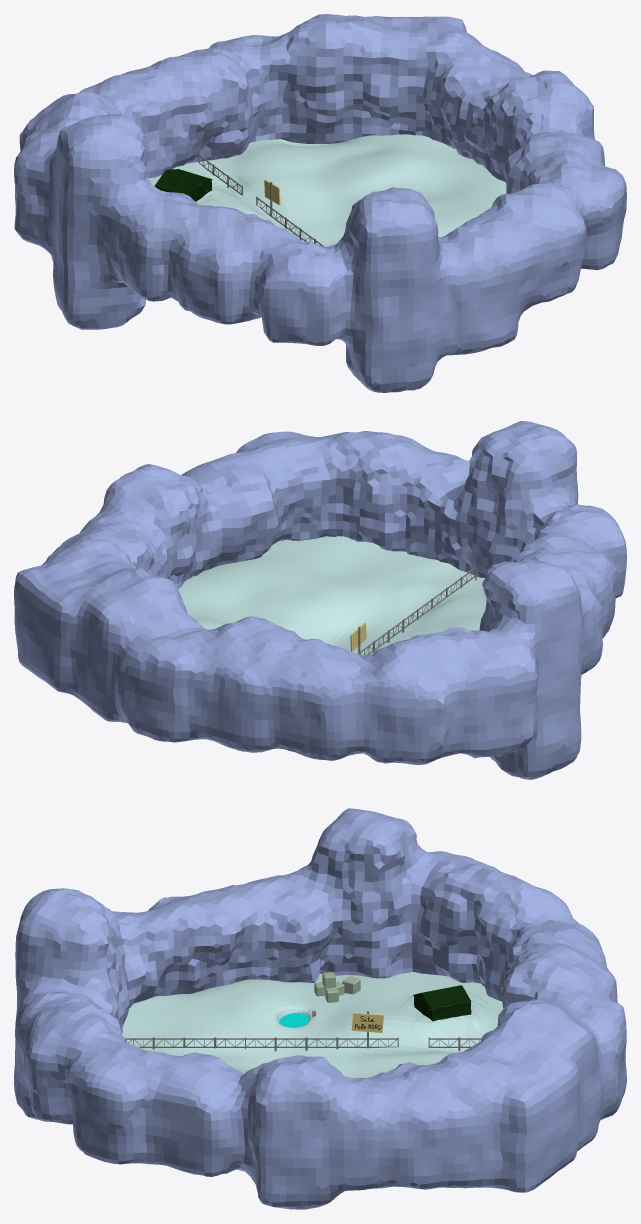
File: environment_pole_nord.fbx
The picture shows the model from 3 angles, top to bottom: view 1: azimuth 30°, elevation 25°; view 2: azimuth 150°, elevation 25°; view 3: azimuth 270°, elevation 25°; orthographic projection. The views are drawn at different scales.
Visible parts, largest first — view 1: pole_nord; view 2: pole_nord; view 3: pole_nord.
Part boxes in pixels (<box>): pole_nord: <box>14,14,626,392</box>; pole_nord: <box>14,421,626,779</box>; pole_nord: <box>14,808,626,1209</box>.
Bounding box in the file's own units: 24656 × 9549 × 25062.
